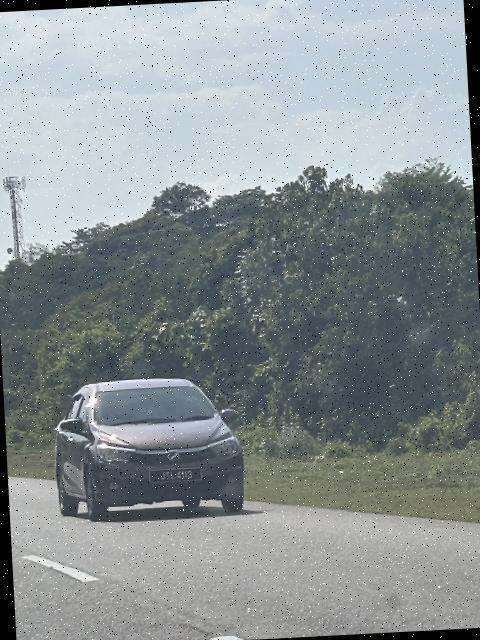License_Plate: (150, 467, 205, 486)
car: (50, 374, 247, 521)
